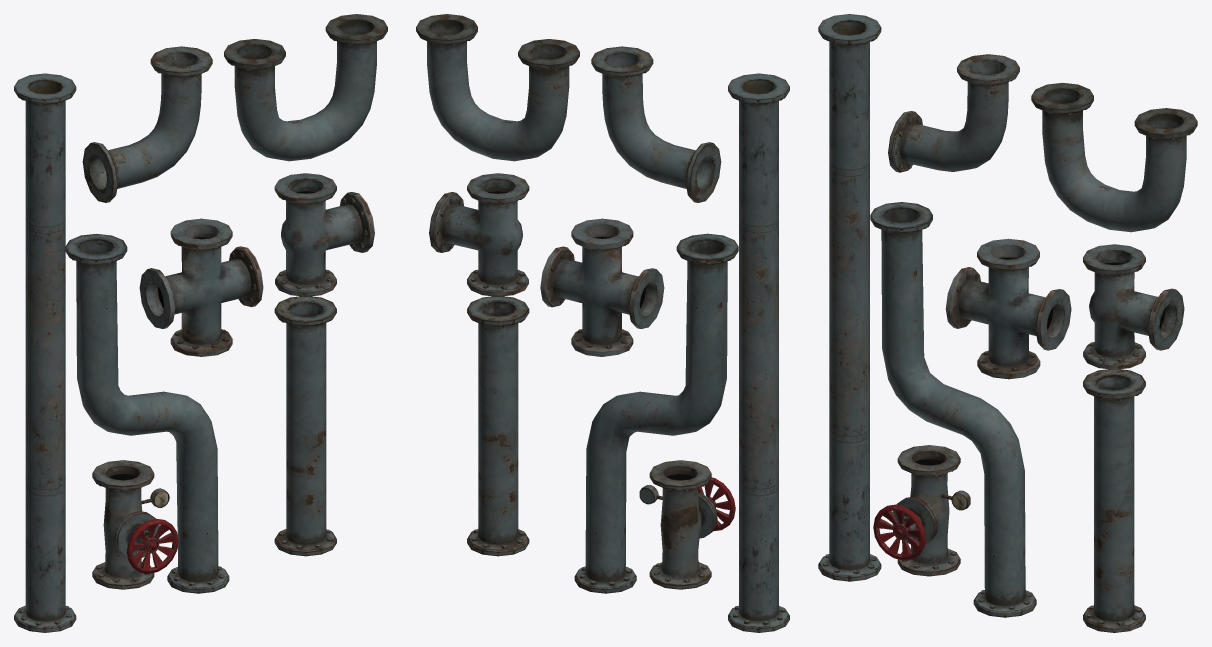
File: modular_industrial_pipes_01.glb
The picture shows the model from 3 angles, left to right: view 1: azimuth 30°, elevation 25°; view 2: azimuth 150°, elevation 25°; view 3: azimuth 330°, elevation 25°; orthographic projection.
Visible parts, largest first — view 1: modular_industrial_pipes_01_pipe02, modular_industrial_pipes_01_pipe03, modular_industrial_pipes_01_pipe05, modular_industrial_pipes_01_pipe01, modular_industrial_pipes_01_pipe07, modular_industrial_pipes_01_pipe04, modular_industrial_pipes_01_pipe06, modular_industrial_pipes_01_pipe08; view 2: modular_industrial_pipes_01_pipe02, modular_industrial_pipes_01_pipe03, modular_industrial_pipes_01_pipe05, modular_industrial_pipes_01_pipe01, modular_industrial_pipes_01_pipe07, modular_industrial_pipes_01_pipe04, modular_industrial_pipes_01_pipe06, modular_industrial_pipes_01_pipe08; view 3: modular_industrial_pipes_01_pipe02, modular_industrial_pipes_01_pipe03, modular_industrial_pipes_01_pipe05, modular_industrial_pipes_01_pipe01, modular_industrial_pipes_01_pipe07, modular_industrial_pipes_01_pipe06, modular_industrial_pipes_01_pipe04, modular_industrial_pipes_01_pipe08.
Boxes of the visible parts, x1,y1,x2,y2 form: modular_industrial_pipes_01_pipe02: (14, 73, 76, 632); modular_industrial_pipes_01_pipe03: (65, 233, 229, 593); modular_industrial_pipes_01_pipe05: (224, 14, 387, 161); modular_industrial_pipes_01_pipe01: (274, 296, 336, 556); modular_industrial_pipes_01_pipe07: (139, 218, 263, 356); modular_industrial_pipes_01_pipe04: (82, 46, 212, 202); modular_industrial_pipes_01_pipe06: (274, 173, 374, 296); modular_industrial_pipes_01_pipe08: (92, 460, 178, 589); modular_industrial_pipes_01_pipe02: (728, 73, 789, 632); modular_industrial_pipes_01_pipe03: (574, 233, 738, 593); modular_industrial_pipes_01_pipe05: (416, 14, 579, 161); modular_industrial_pipes_01_pipe01: (467, 296, 529, 556); modular_industrial_pipes_01_pipe07: (540, 218, 664, 356); modular_industrial_pipes_01_pipe04: (591, 46, 721, 202); modular_industrial_pipes_01_pipe06: (429, 173, 529, 296); modular_industrial_pipes_01_pipe08: (639, 460, 735, 589); modular_industrial_pipes_01_pipe02: (818, 14, 881, 581); modular_industrial_pipes_01_pipe03: (870, 202, 1036, 617); modular_industrial_pipes_01_pipe05: (1031, 82, 1197, 232); modular_industrial_pipes_01_pipe01: (1083, 369, 1145, 632); modular_industrial_pipes_01_pipe07: (945, 238, 1071, 379); modular_industrial_pipes_01_pipe06: (1083, 244, 1184, 369); modular_industrial_pipes_01_pipe04: (888, 54, 1019, 172); modular_industrial_pipes_01_pipe08: (873, 445, 970, 576).
Bounding box in the file's own units: 1.4 × 1.95 × 0.3076.
Materials: 2 (2 with a texture image).
